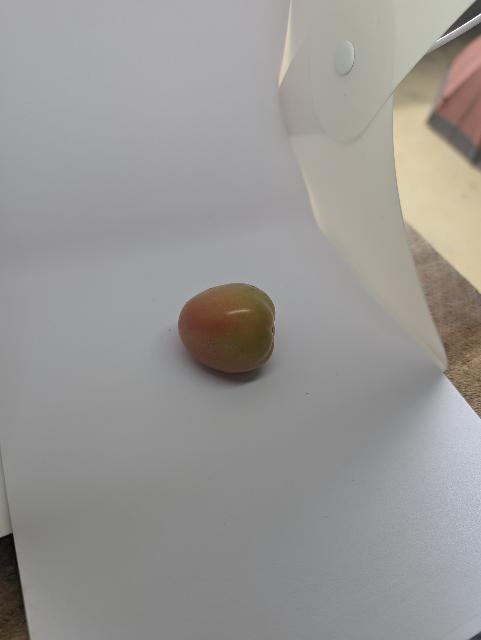turning: (173, 279, 284, 382)
